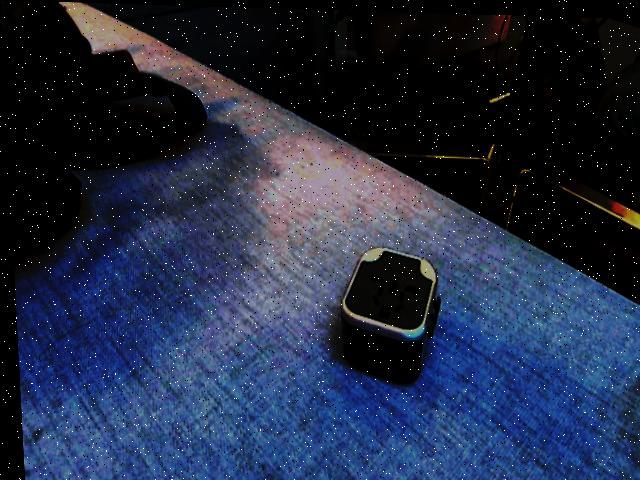adapter: (333, 243, 442, 383)
